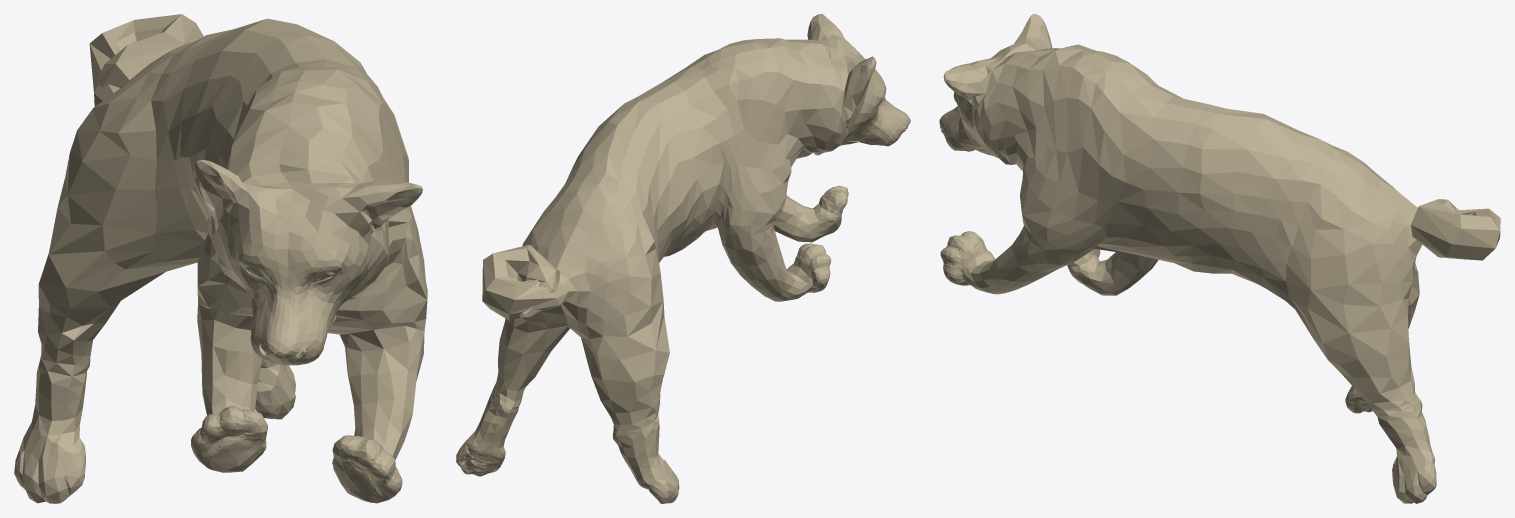
3 renders of one model, left to right at view 1: azimuth 30°, elevation 25°; view 2: azimuth 150°, elevation 25°; view 3: azimuth 270°, elevation 25°, orthographic. The views are drawn at different scales.
Parts seen in each view (by area): view 1: world; view 2: world; view 3: world.
Part boxes in pixels (x1,y1,x2,y2): world: (14, 14, 427, 503); world: (456, 14, 910, 503); world: (939, 14, 1500, 503).
Size of the model in its own units: 0.609 by 0.8602 by 1.15.
